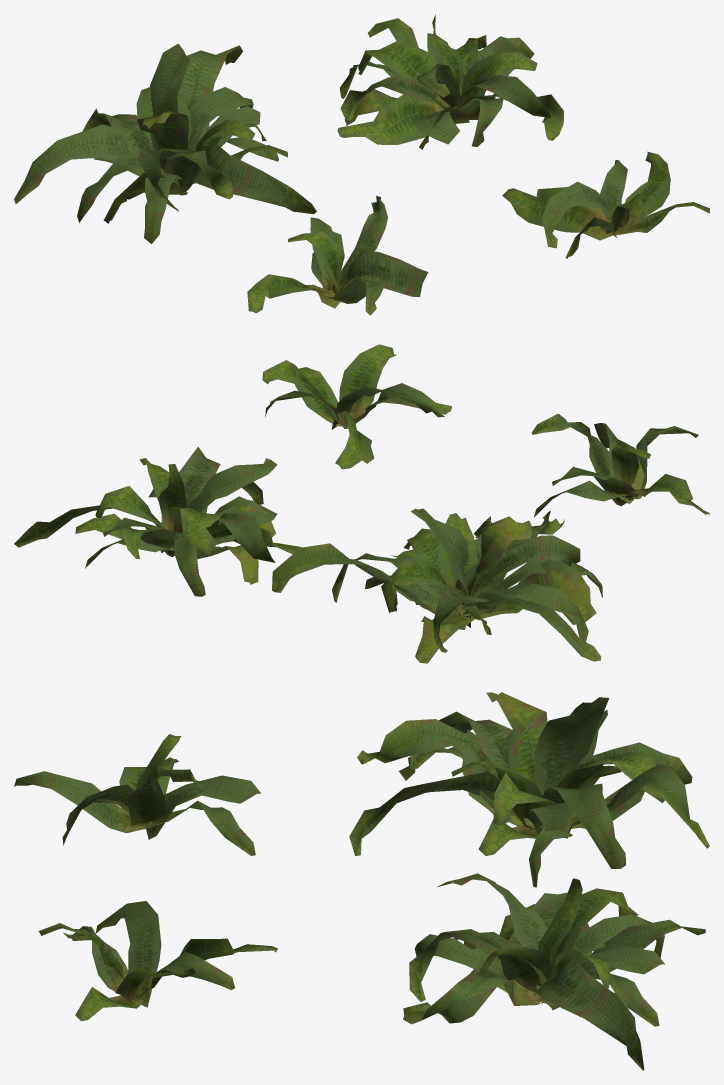
Rendered from m_fern_02.c5ef692359.glb.
3 views of the same model, one above another, from view 1: azimuth 30°, elevation 25°; view 2: azimuth 150°, elevation 25°; view 3: azimuth 270°, elevation 25° (orthographic). The views are drawn at different scales.
Visible parts, largest first — view 1: fern_02_b; view 2: fern_02_b; view 3: fern_02_b.
Boxes of the visible parts, x1=… form: fern_02_b: x1=14, y1=14, x2=709, y2=315; fern_02_b: x1=14, y1=344, x2=709, y2=663; fern_02_b: x1=14, y1=692, x2=709, y2=1070.
Bounding box in the file's own units: 1.97 × 0.4277 × 1.72.
Materials: 1 (1 with a texture image).
